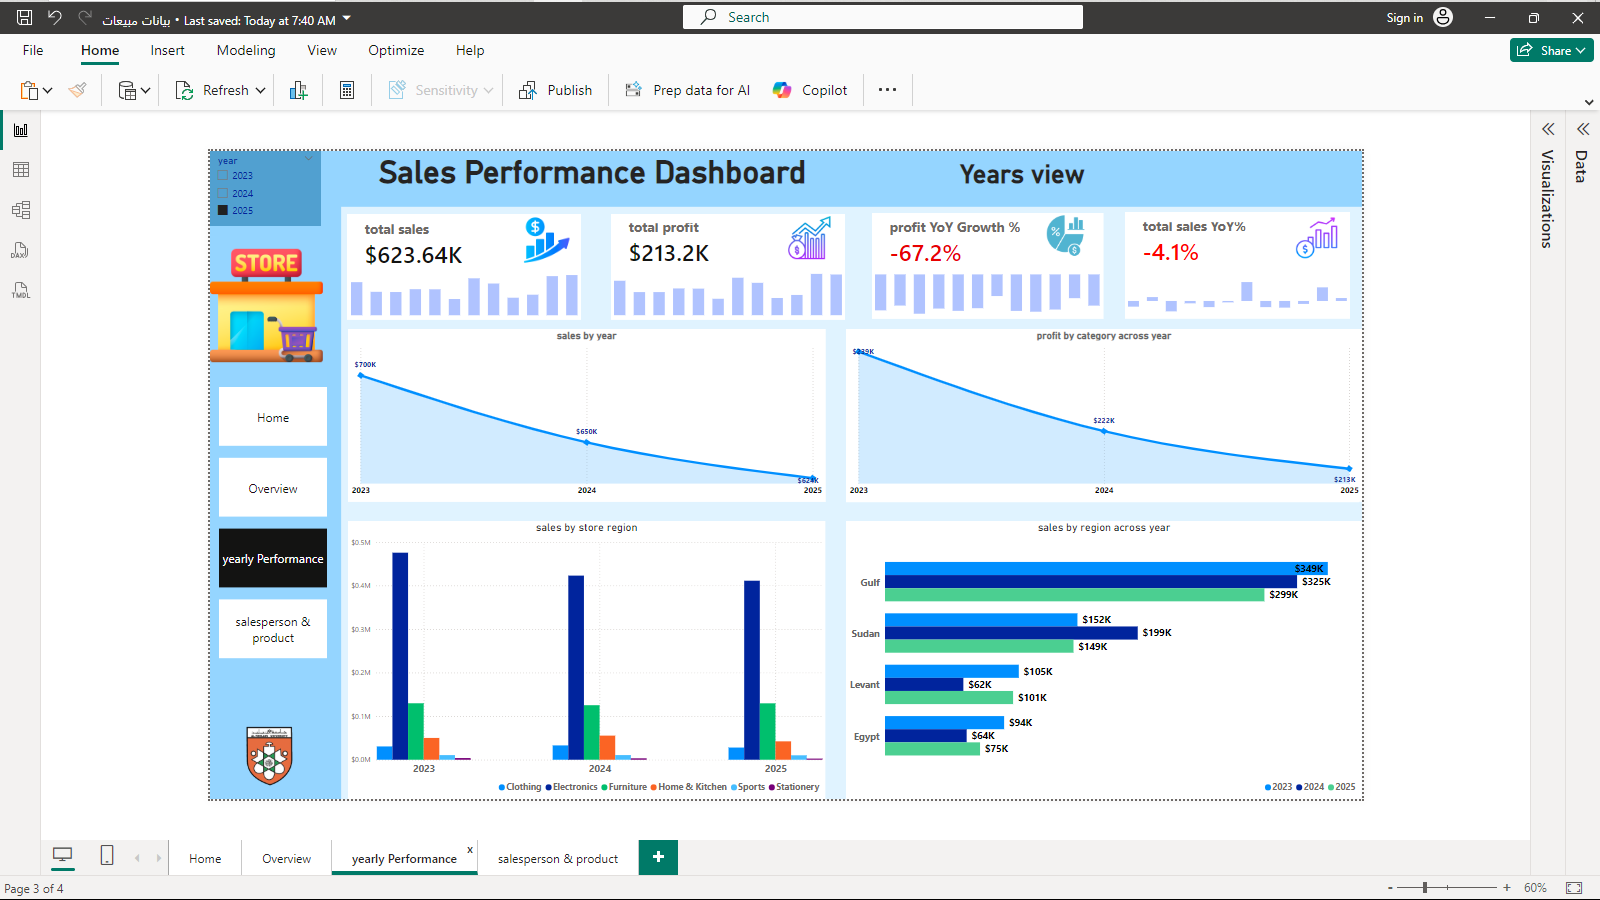

Layout of this report page (visuals, bound fields, positions):
{"tool":"powerbi","page":{"name":"yearly Performance","canvas":[1920,1080],"ordinal":2},"visuals":[{"type":"shape","box":[0,0,218.6,1080],"z":0},{"type":"shape","box":[208.9,0,1711.6,93.2],"z":1000},{"type":"shape","box":[228.9,104.7,390.4,176.5],"z":2000},{"type":"cardVisual","fields":{"Data":["sales_data.total sales"]},"box":[228.9,104.7,236.3,101.7],"z":3000},{"type":"shape","box":[668.6,104.7,390.4,176.5],"z":4000},{"type":"shape","box":[1103.9,103.2,385.9,176.5],"z":5000},{"type":"shape","box":[1525.8,101.7,375.5,178],"z":6000},{"type":"cardVisual","fields":{"Data":["date_dim.total sales YoY%"]},"box":[1525.8,101.7,236.3,98.7],"z":7000},{"type":"cardVisual","fields":{"Data":["sales_data.sales YoY Growth %"]},"box":[1103.6,101.1,287.1,99.4],"z":8000},{"type":"cardVisual","fields":{"Data":["sales_data.total profit"]},"box":[668.6,103.2,236.3,97.2],"z":9000},{"type":"columnChart","fields":{"Category":["date_dim.month name"],"Y":["sales_data.total sales"]},"box":[229.4,187.7,388.2,91.4],"z":10000},{"type":"columnChart","fields":{"Category":["date_dim.month name"],"Y":["sales_data.total profit"]},"box":[668.6,180,390.5,99.6],"z":11000},{"type":"columnChart","fields":{"Category":["date_dim.month name"],"Y":["date_dim.total sales YoY%"]},"box":[1525.4,187.7,375.3,91.4],"z":12000},{"type":"columnChart","fields":{"Category":["date_dim.month name"],"Y":["sales_data.sales YoY Growth %"]},"box":[1103.6,192.5,385,86.6],"z":13000},{"type":"shape","box":[1060.3,296.7,854.9,288.7],"z":14000},{"type":"shape","box":[229.8,297.3,795.5,287.7],"z":15000},{"type":"shape","box":[229.4,615.9,795.6,463.6],"z":16000},{"type":"shape","box":[1377.3,671.8,535.2,408.2],"z":17000},{"type":"shape","box":[1060.3,615.9,859.7,463.6],"z":18000},{"type":"lineChart","title":" sales by year","fields":{"Y":["sales_data.total sales"],"Category":["date_dim.year"]},"box":[229.8,297.3,795.5,287.7],"z":19000},{"type":"lineChart","title":"profit by category across year","fields":{"Y":["sales_data.total profit"],"Category":["date_dim.year"]},"box":[1060.7,297.3,859.8,287.7],"z":20000},{"type":"clusteredColumnChart","title":"sales by store region","fields":{"Y":["sales_data.total sales"],"Series":["sales_data.category"],"Category":["date_dim.year"]},"box":[229.4,615.9,795.6,463.6],"z":21000},{"type":"textbox","box":[229.8,0,1279.3,83.6],"z":22000},{"type":"image","box":[507.1,104.7,109.2,86.8],"z":23000},{"type":"image","box":[1789,107.7,112.2,73.3],"z":24000},{"type":"image","box":[1365.7,104.7,122.7,71.8],"z":25000},{"type":"image","box":[937.9,107.7,121.2,71.8],"z":26000},{"type":"image","box":[0,140,188.3,235],"z":27000},{"type":"pageNavigator","box":[15,393.3,180,455],"z":28000},{"type":"clusteredBarChart","title":"sales by region across year","fields":{"Category":["sales_data.store_region"],"Y":["sales_data.total sales"],"Series":["date_dim.year"]},"box":[1060.3,615.9,859.7,463.6],"z":29000},{"type":"slicer","fields":{"Values":["date_dim.year"]},"box":[0,0,185,125],"z":30000},{"type":"image","box":[43.3,951.7,113.3,106.7],"z":30001}]}

Visuals, with their boxes on the page's 1920x1080 design canvas (x1, y1, x2, y2). These are canvas units, not pixel positions in the 1600x900 screenshot, which may show the page scaled, cropped or inside an application window:
shape: BBox(0, 0, 219, 1080)
shape: BBox(209, 0, 1920, 93)
shape: BBox(229, 105, 619, 281)
cardVisual - sales_data.total sales: BBox(229, 105, 465, 206)
shape: BBox(669, 105, 1059, 281)
shape: BBox(1104, 103, 1490, 280)
shape: BBox(1526, 102, 1901, 280)
cardVisual - date_dim.total sales YoY%: BBox(1526, 102, 1762, 200)
cardVisual - sales_data.sales YoY Growth %: BBox(1104, 101, 1391, 200)
cardVisual - sales_data.total profit: BBox(669, 103, 905, 200)
columnChart - date_dim.month name x sales_data.total sales: BBox(229, 188, 618, 279)
columnChart - date_dim.month name x sales_data.total profit: BBox(669, 180, 1059, 280)
columnChart - date_dim.month name x date_dim.total sales YoY%: BBox(1525, 188, 1901, 279)
columnChart - date_dim.month name x sales_data.sales YoY Growth %: BBox(1104, 192, 1489, 279)
shape: BBox(1060, 297, 1915, 585)
shape: BBox(230, 297, 1025, 585)
shape: BBox(229, 616, 1025, 1080)
shape: BBox(1377, 672, 1912, 1080)
shape: BBox(1060, 616, 1920, 1080)
" sales by year" lineChart: BBox(230, 297, 1025, 585)
"profit by category across year" lineChart: BBox(1061, 297, 1920, 585)
"sales by store region" clusteredColumnChart: BBox(229, 616, 1025, 1080)
textbox: BBox(230, 0, 1509, 84)
image: BBox(507, 105, 616, 192)
image: BBox(1789, 108, 1901, 181)
image: BBox(1366, 105, 1488, 176)
image: BBox(938, 108, 1059, 180)
image: BBox(0, 140, 188, 375)
pageNavigator: BBox(15, 393, 195, 848)
"sales by region across year" clusteredBarChart: BBox(1060, 616, 1920, 1080)
slicer - date_dim.year: BBox(0, 0, 185, 125)
image: BBox(43, 952, 157, 1058)
